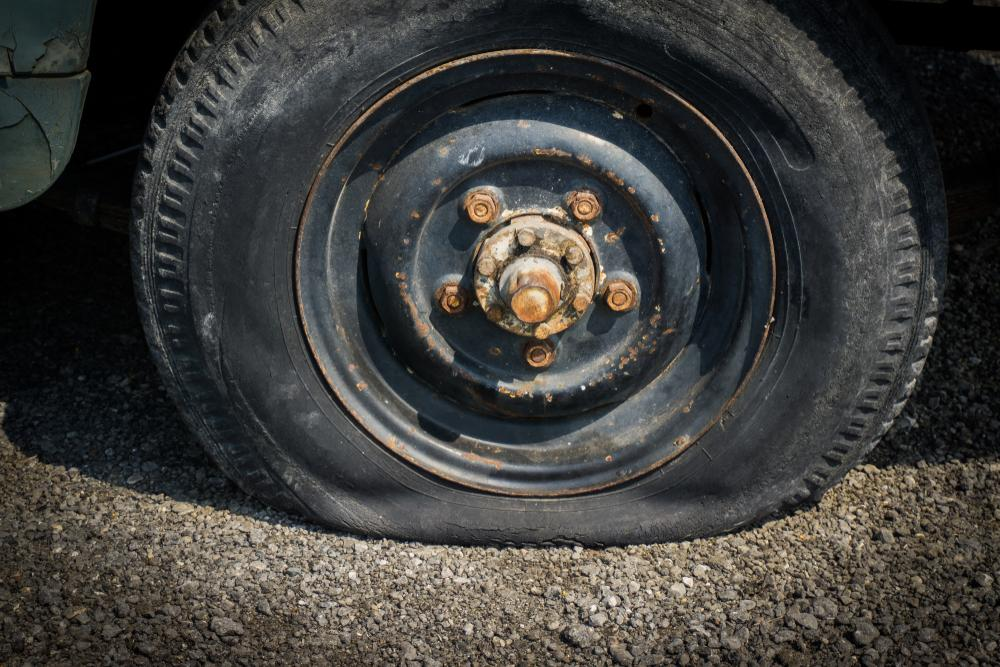tire flat: (133, 0, 953, 548)
